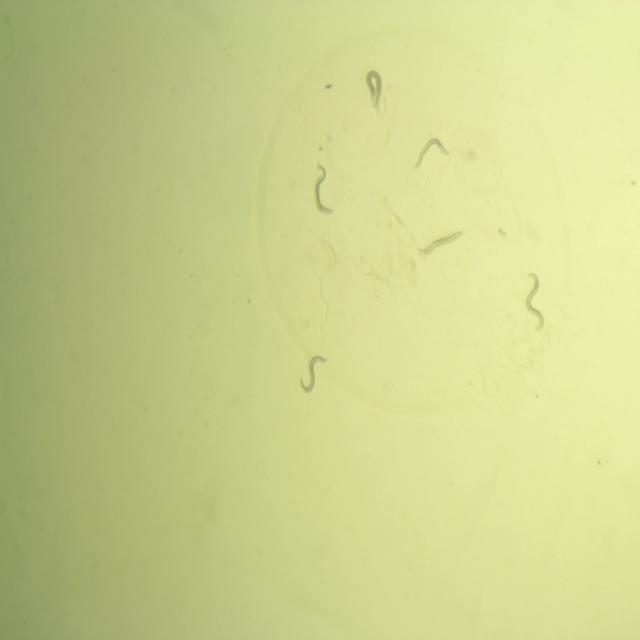worm: (412, 224, 470, 260), (520, 269, 549, 335), (296, 350, 332, 402), (411, 131, 454, 174), (310, 159, 336, 222), (361, 66, 387, 115)
